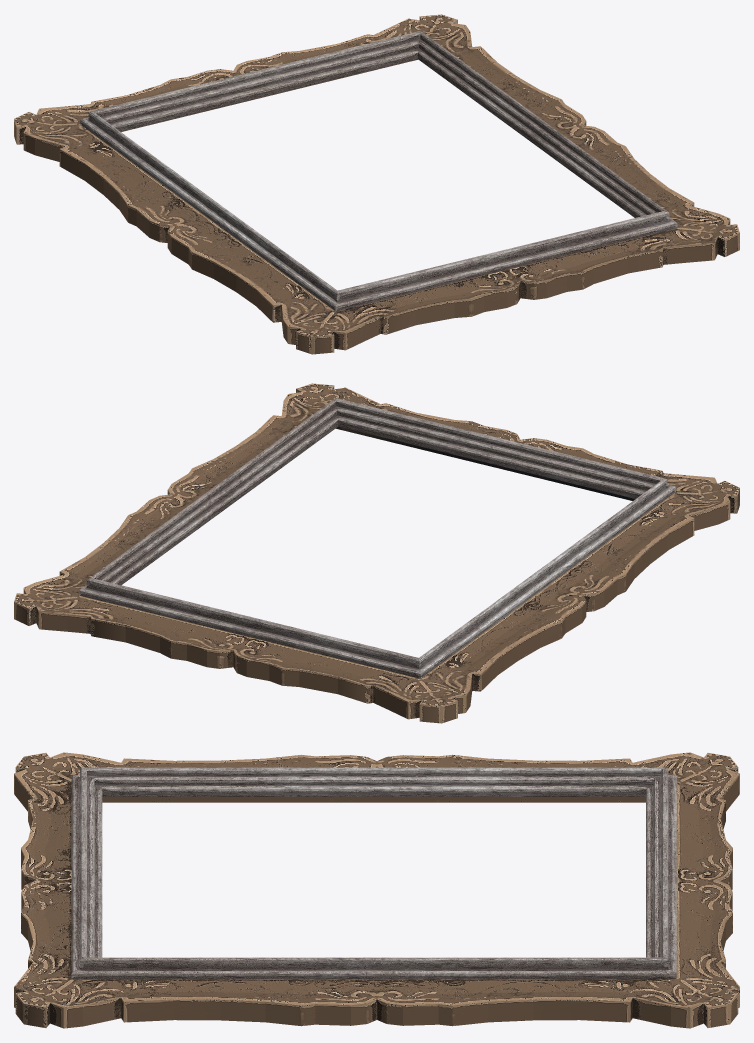
The picture shows the model from 3 angles, top to bottom: view 1: azimuth 30°, elevation 25°; view 2: azimuth 150°, elevation 25°; view 3: azimuth 270°, elevation 25°; orthographic projection. The views are drawn at different scales.
Visible parts, largest first — view 1: g PictureFrame; view 2: g PictureFrame; view 3: g PictureFrame.
Part boxes in pixels (x1=…): g PictureFrame: x1=14, y1=14, x2=739, y2=354; g PictureFrame: x1=14, y1=383, x2=739, y2=723; g PictureFrame: x1=14, y1=752, x2=739, y2=1028.
Bounding box in the file's own units: 1.99 × 0.1393 × 2.39.
1 material, 1 textured.
